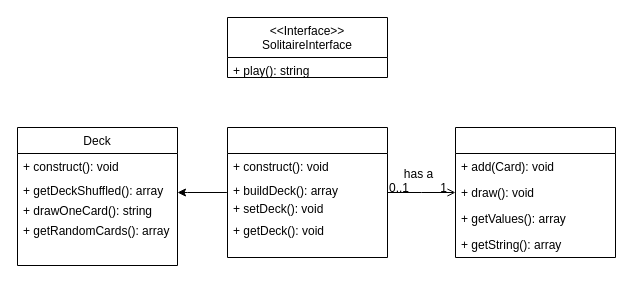
Image size: 633x283. Some labels were removed from this diagram. The box of each missing label's shape, as (x1, y1, x2, y2) in pixels:
Card: (226, 126, 388, 258)
CardHand: (454, 126, 616, 258)
